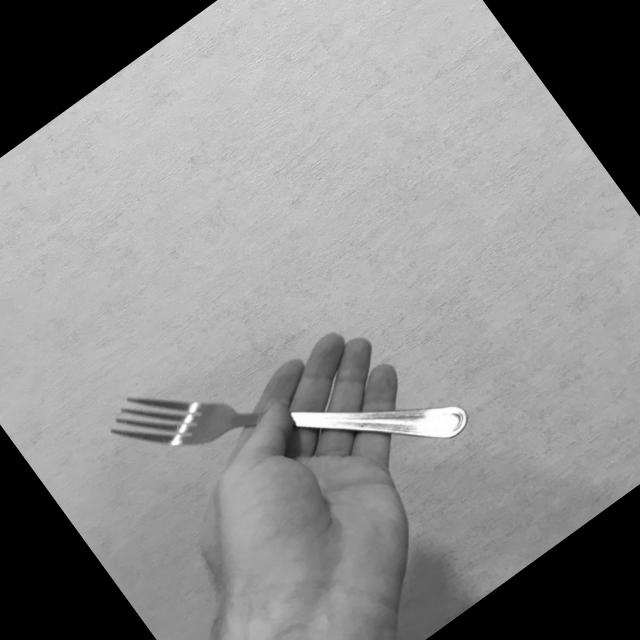fork: (96, 238, 476, 600)
